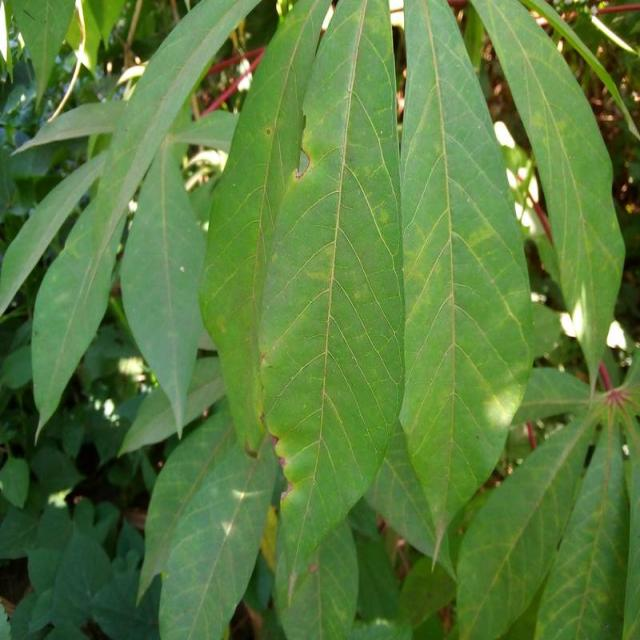cassava leaf: (4, 0, 638, 638), (28, 0, 262, 447), (258, 0, 407, 604), (397, 0, 536, 573), (471, 0, 628, 389), (199, 0, 333, 454)
